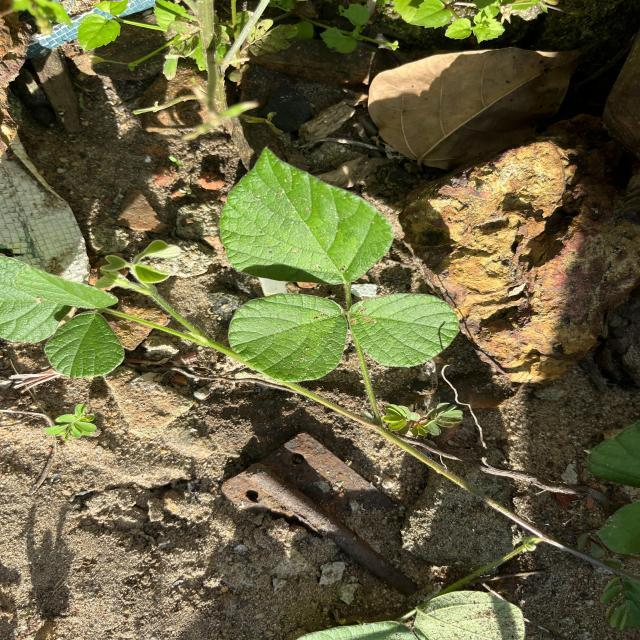Pseudarthria viscida: (216, 142, 464, 386)
